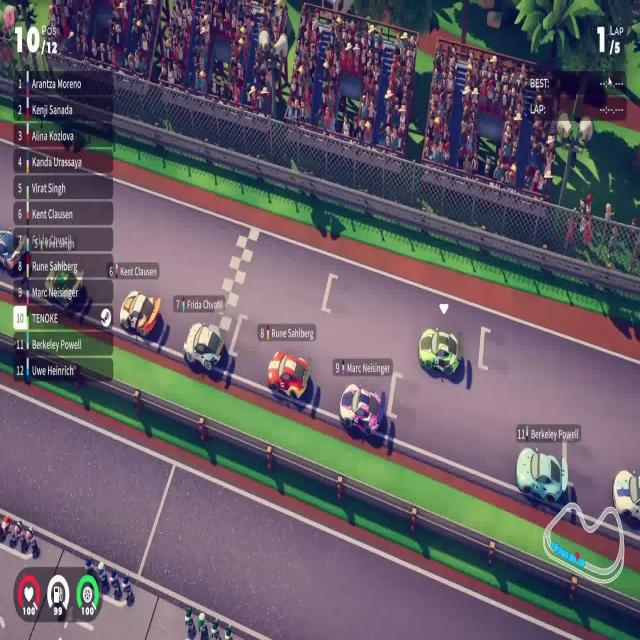car: (514, 446, 568, 506), (339, 382, 386, 438), (266, 348, 310, 400), (182, 321, 225, 373), (418, 326, 460, 377), (119, 288, 161, 338)
